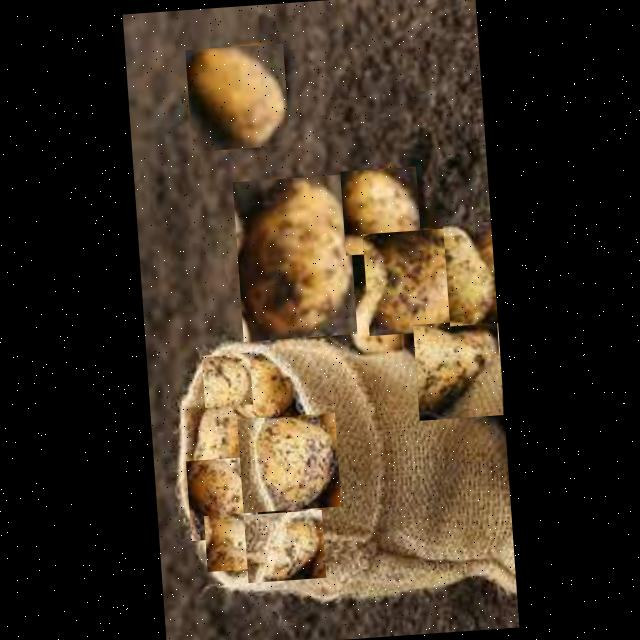Diseased-fungal potato: (232, 172, 357, 340), (362, 226, 473, 334), (184, 41, 290, 150), (237, 411, 341, 512), (412, 318, 502, 420), (339, 165, 422, 254), (186, 454, 258, 540), (243, 508, 326, 582), (442, 220, 498, 325), (184, 396, 250, 478), (220, 354, 298, 419), (348, 284, 412, 352), (203, 511, 259, 570), (201, 351, 253, 406)
